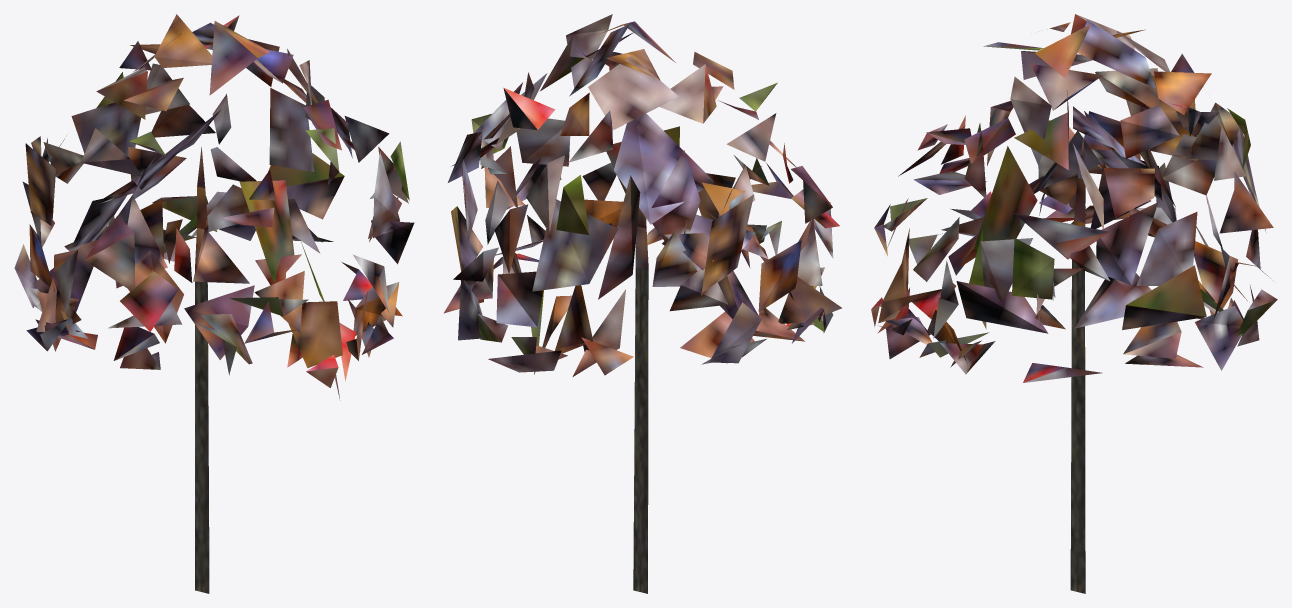
File: Tree04.fbx
The picture shows the model from 3 angles, left to right: view 1: azimuth 30°, elevation 25°; view 2: azimuth 150°, elevation 25°; view 3: azimuth 270°, elevation 25°; orthographic projection. The views are drawn at different scales.
Visible parts, largest first — view 1: Tree04; view 2: Tree04; view 3: Tree04.
Part boxes in pixels (x1,y1,x2,y2): Tree04: [14, 14, 414, 593]; Tree04: [443, 14, 842, 593]; Tree04: [871, 14, 1277, 593].
Bounding box in the file's own units: 585 × 859 × 550.
